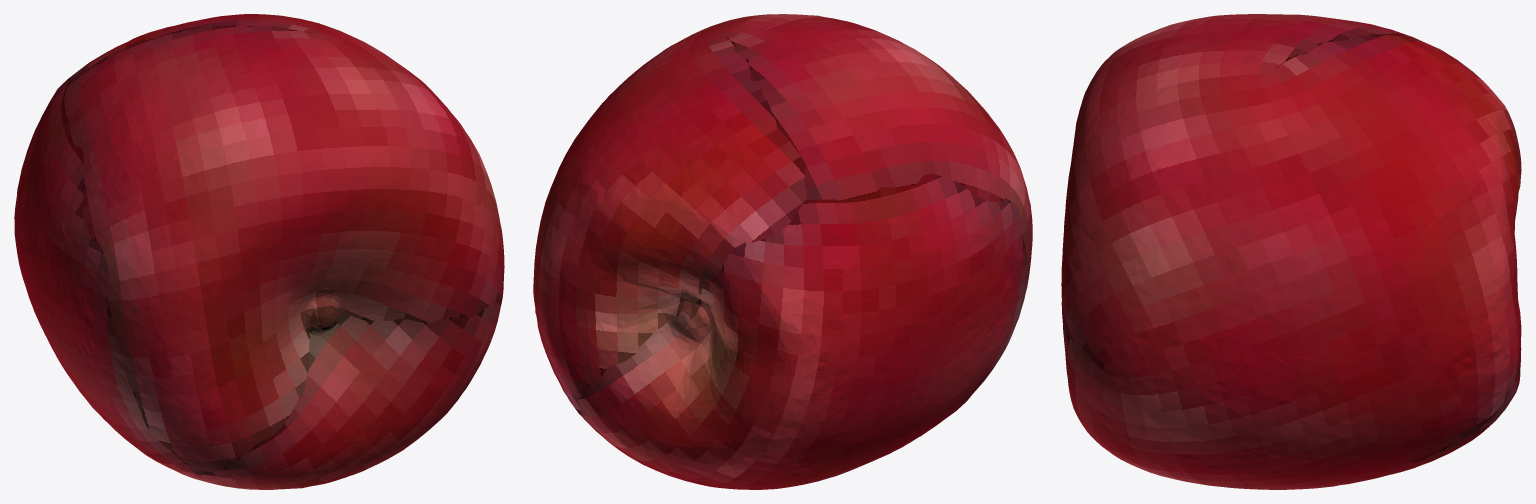
File: base1-web.glb
3 renders of one model, left to right at view 1: azimuth 30°, elevation 25°; view 2: azimuth 150°, elevation 25°; view 3: azimuth 270°, elevation 25°, orthographic. The views are drawn at different scales.
Visible parts, largest first — view 1: textured; view 2: textured; view 3: textured.
Boxes of the visible parts, x1,y1,x2,y2 form: textured: [14, 14, 504, 489]; textured: [533, 14, 1032, 489]; textured: [1061, 14, 1521, 489].
Size of the model in its own units: 0.0754 by 0.0749 by 0.0719.
1 material, 1 textured.
